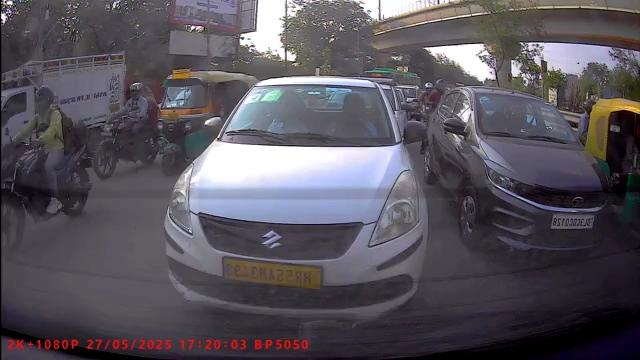motorcycle_with_helmet: (1, 82, 90, 254), (94, 81, 161, 181)
